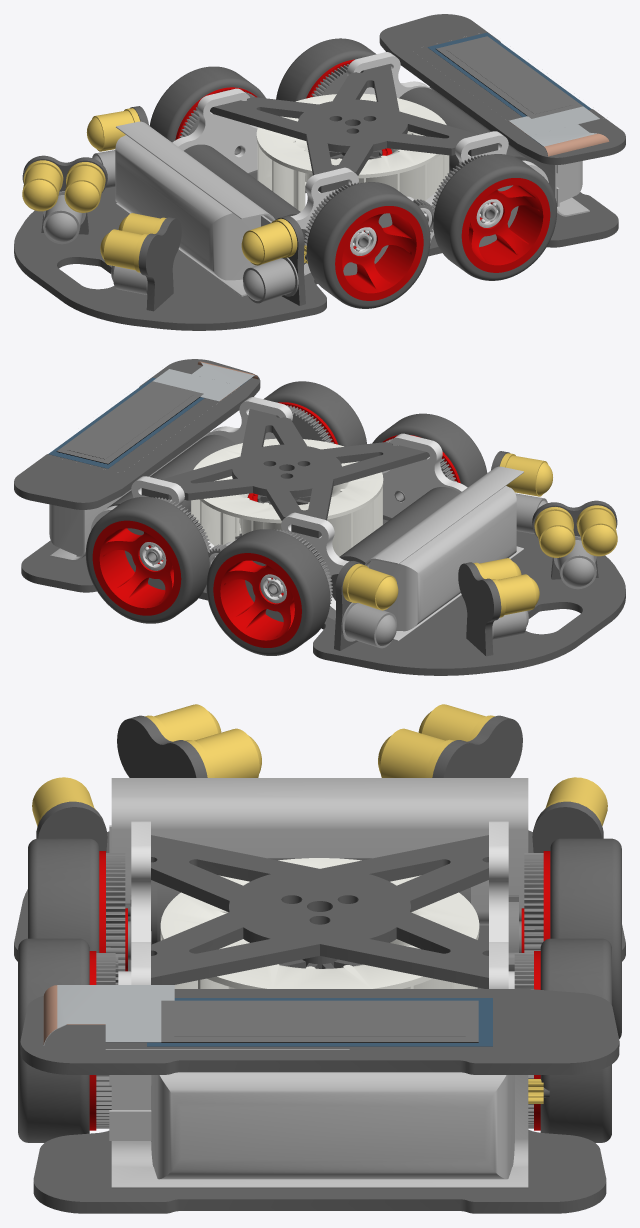
The model's file is zhonx-5.glb.
3 renders of one model, top to bottom at view 1: azimuth 30°, elevation 25°; view 2: azimuth 150°, elevation 25°; view 3: azimuth 270°, elevation 25°, orthographic. The views are drawn at different scales.
Visible parts, largest first — view 1: Assemblage_Train_001, Assemblage_Platine_001, Assemblage_Base_001, Batterie_1S_130mA_001, Batterie_1S_130mA_002; view 2: Assemblage_Train_001, Assemblage_Platine_001, Assemblage_Base_001, Batterie_1S_130mA_001, Batterie_1S_130mA_002; view 3: Assemblage_Platine_001, Assemblage_Train_001, Batterie_1S_130mA_002, Assemblage_Base_001, Batterie_1S_130mA_001.
Part boxes in pixels (bbox=[...]): Assemblage_Train_001: bbox=[149, 38, 556, 308]; Assemblage_Platine_001: bbox=[210, 14, 625, 211]; Assemblage_Base_001: bbox=[14, 106, 618, 330]; Batterie_1S_130mA_001: bbox=[115, 121, 274, 296]; Batterie_1S_130mA_002: bbox=[429, 86, 589, 216]; Assemblage_Train_001: bbox=[85, 381, 487, 655]; Assemblage_Platine_001: bbox=[14, 359, 429, 556]; Assemblage_Base_001: bbox=[21, 451, 625, 675]; Batterie_1S_130mA_001: bbox=[365, 466, 523, 641]; Batterie_1S_130mA_002: bbox=[49, 431, 210, 561]; Assemblage_Platine_001: bbox=[20, 835, 619, 1074]; Assemblage_Train_001: bbox=[18, 821, 621, 1142]; Batterie_1S_130mA_002: bbox=[109, 1072, 528, 1188]; Assemblage_Base_001: bbox=[14, 704, 625, 1213]; Batterie_1S_130mA_001: bbox=[109, 778, 528, 925].
Size of the model in its own units: 0.0735 by 0.016 by 0.047.
